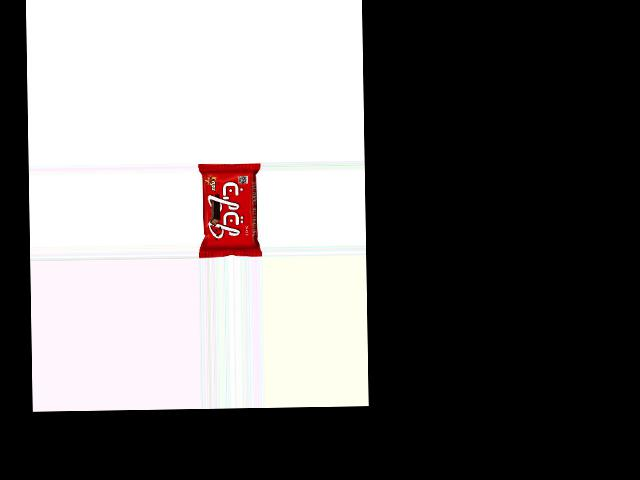chocolate: (197, 163, 263, 257)
